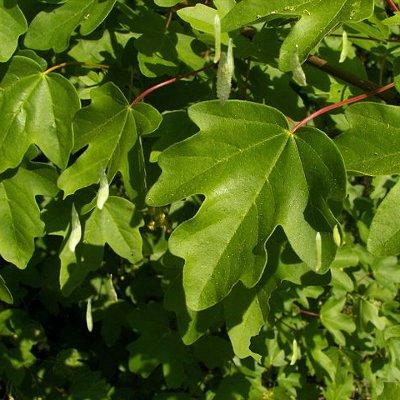ampalaya: (215, 51, 232, 105), (289, 44, 306, 86), (68, 202, 81, 252), (96, 162, 109, 210), (213, 14, 221, 63), (338, 29, 348, 62), (106, 273, 117, 302), (226, 37, 234, 74), (289, 338, 298, 365), (315, 231, 321, 271), (332, 222, 340, 248), (86, 298, 92, 331)
